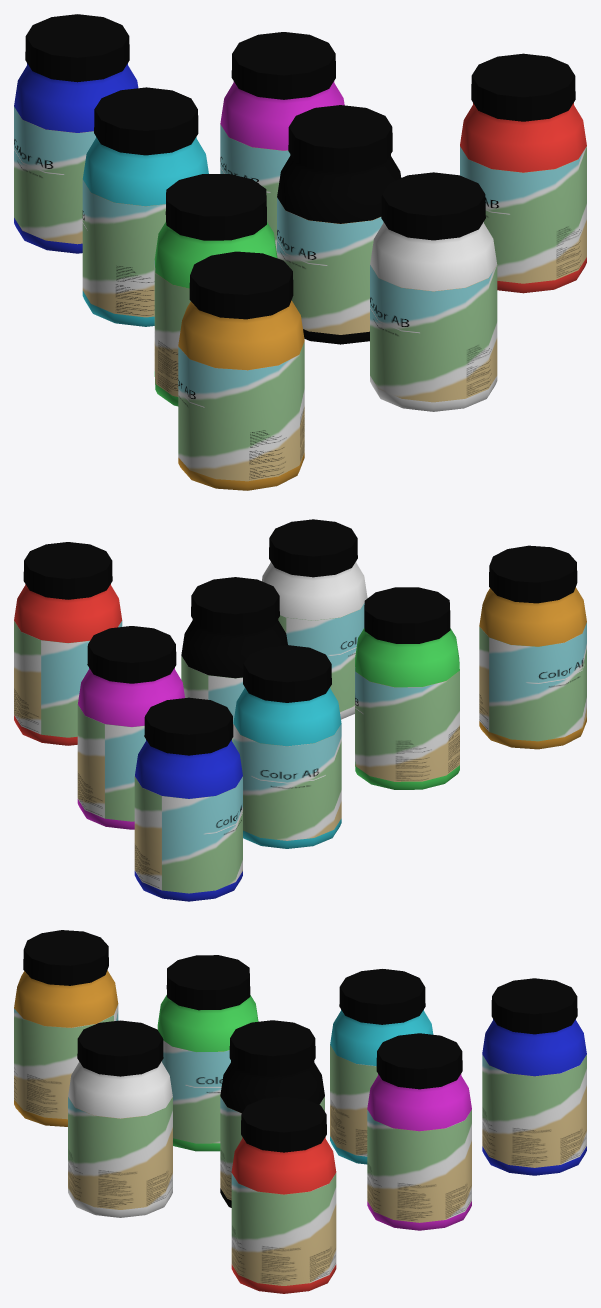
Rendered from Paintcans.fbx.
3 views of the same model, one above another, from view 1: azimuth 30°, elevation 25°; view 2: azimuth 150°, elevation 25°; view 3: azimuth 270°, elevation 25° (orthographic). The views are drawn at different scales.
Parts seen in each view (by area): view 1: colorcan2.004; view 2: colorcan2.004; view 3: colorcan2.004.
Boxes of the visible parts, x1=… form: colorcan2.004: x1=14, y1=14, x2=586, y2=490; colorcan2.004: x1=14, y1=519, x2=586, y2=901; colorcan2.004: x1=14, y1=930, x2=586, y2=1293.
Size of the model in its own units: 0.3827 by 0.3331 by 0.1177.
